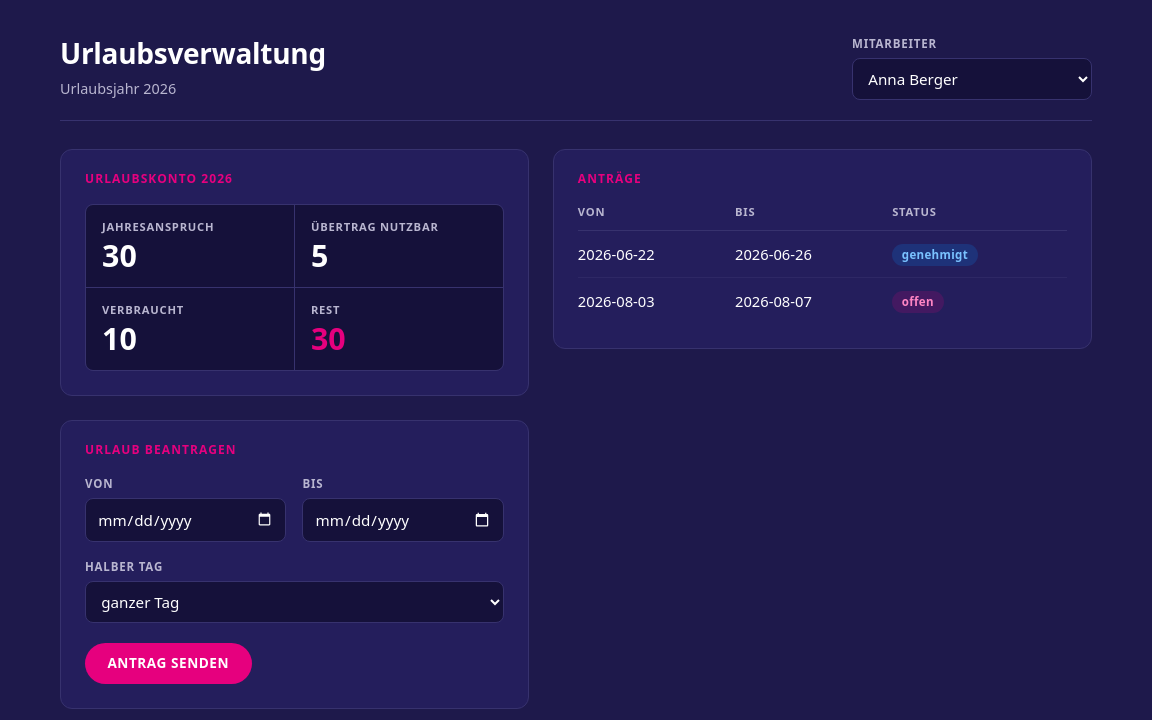
App › zeigt die Fehler eines abgelehnten Antrags
This screenshot has width=1152, height=720.
Expected: the text with test id "remaining" is shown, [311,318,346,359]
Type "2026-12-28" into the date field labelled "Von" at (186, 520), box [85,498,286,542]
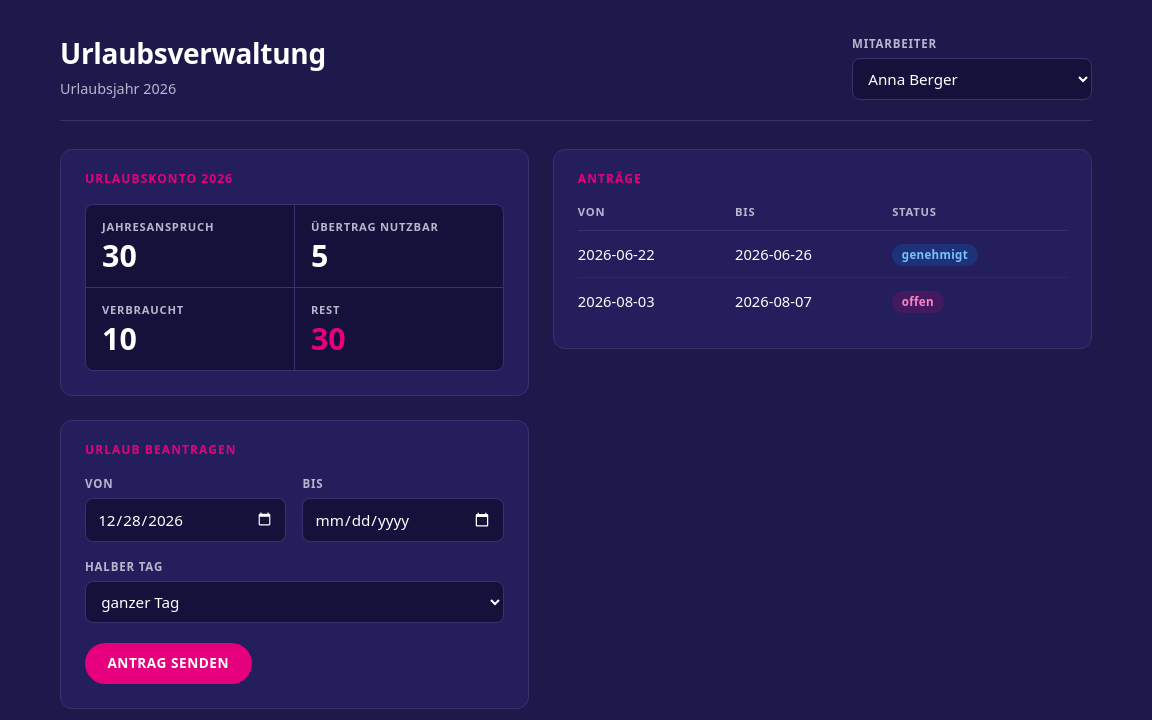
Type "2027-01-04" into the date field labelled "Bis" at (403, 520), box [302,498,504,542]
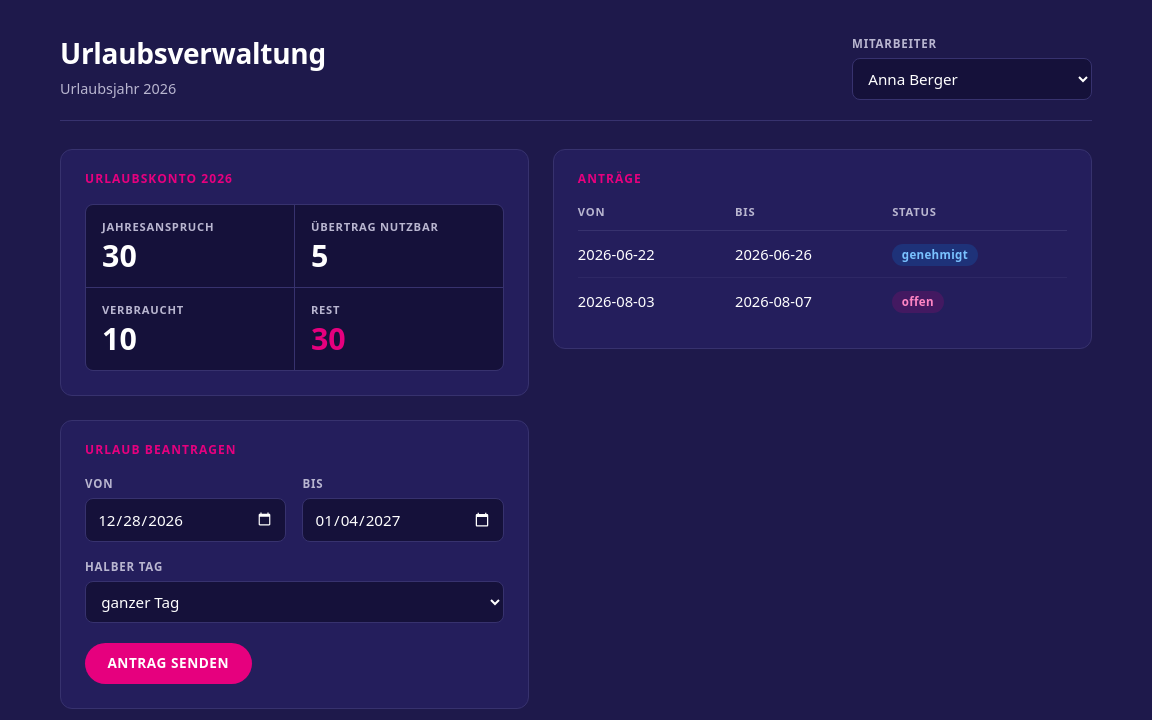
Submit the form labelled "Urlaub beantragen", box [60,420,529,709]
(page scrolled)
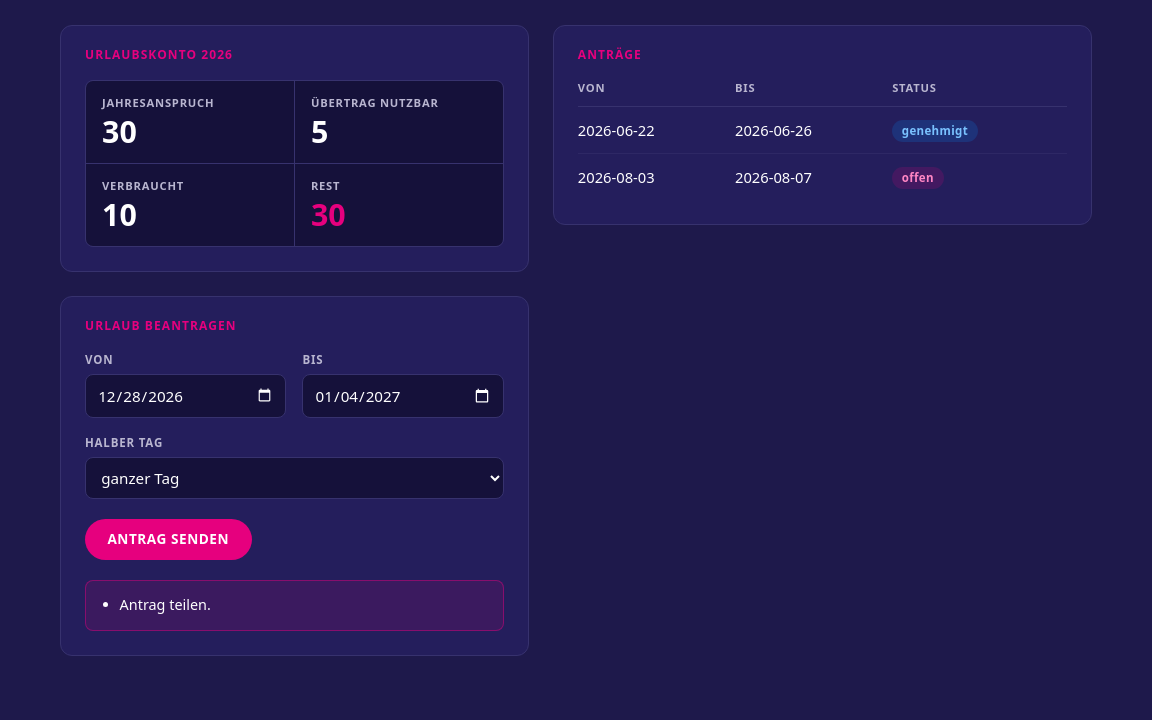
Expected: the list with test id "issues" reads "Antrag teilen.", [120,596,211,614]
